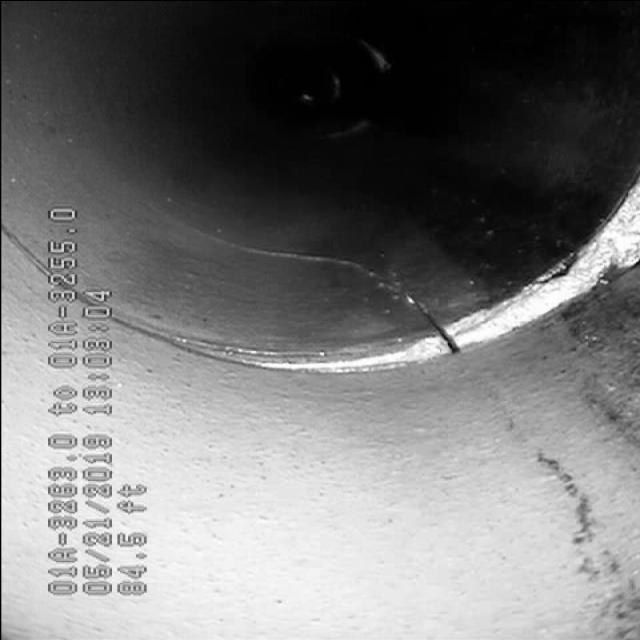Crack: (368, 304, 604, 502)
